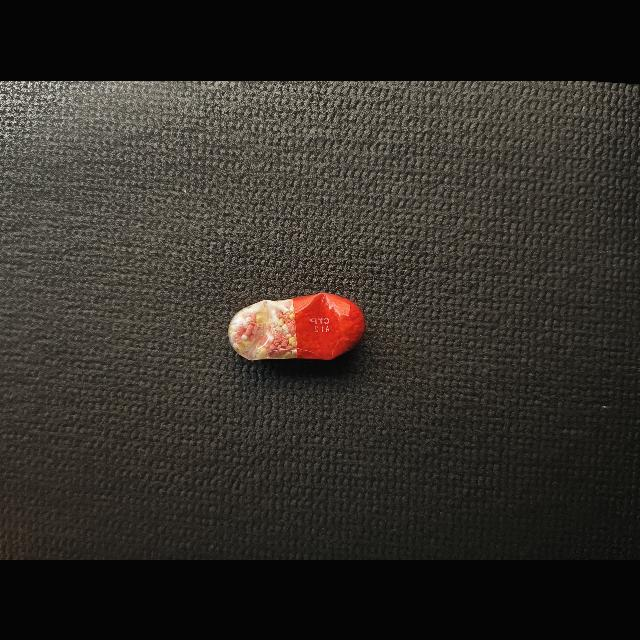Defective Capsule: (228, 292, 366, 360)
